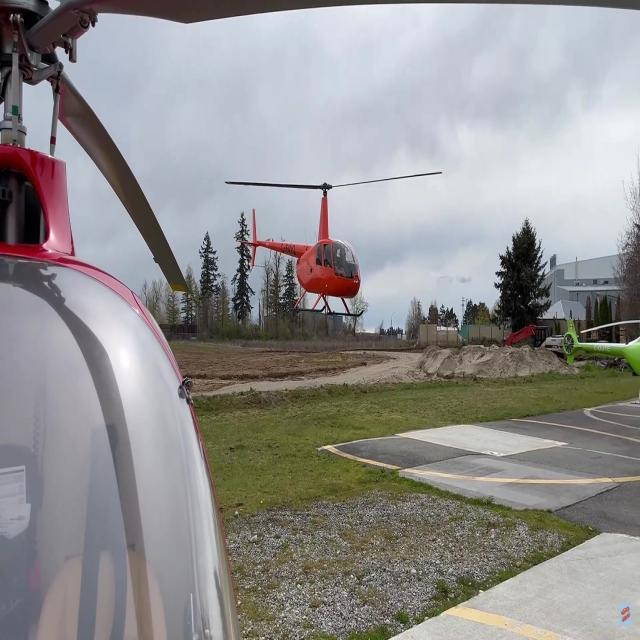CIV_HELO: (238, 181, 367, 321)
